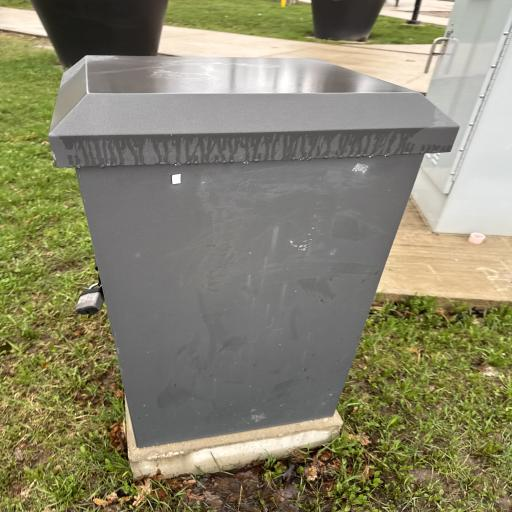Electrical Box: (51, 53, 460, 442)
